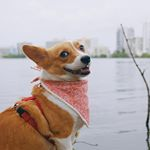puppy: (1, 33, 97, 150)
